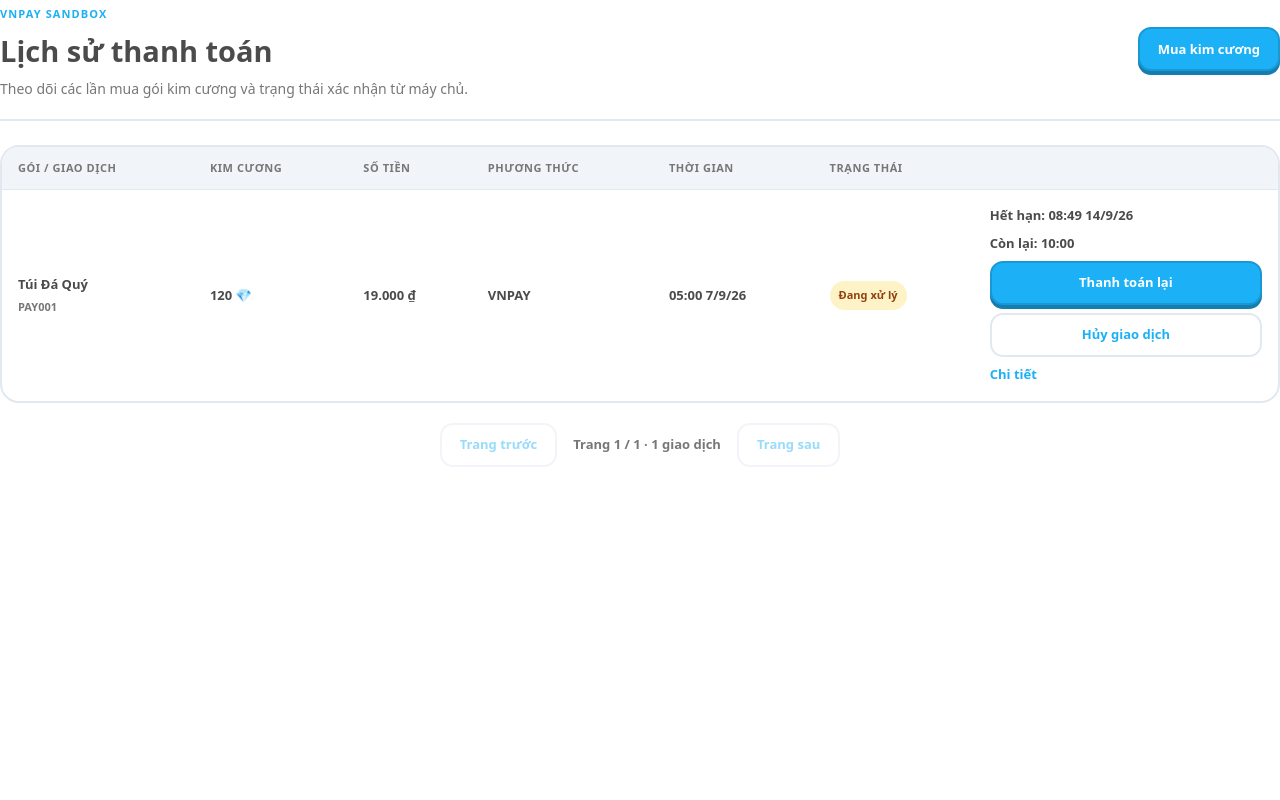
Test: PaymentHistoryPage › cancel confirmation clears only matching storage (true)
Click the button with aria-label "Hủy giao dịch PAY001".
click(1126, 335)  # box top-left (990, 313), bottom-right (1262, 357)
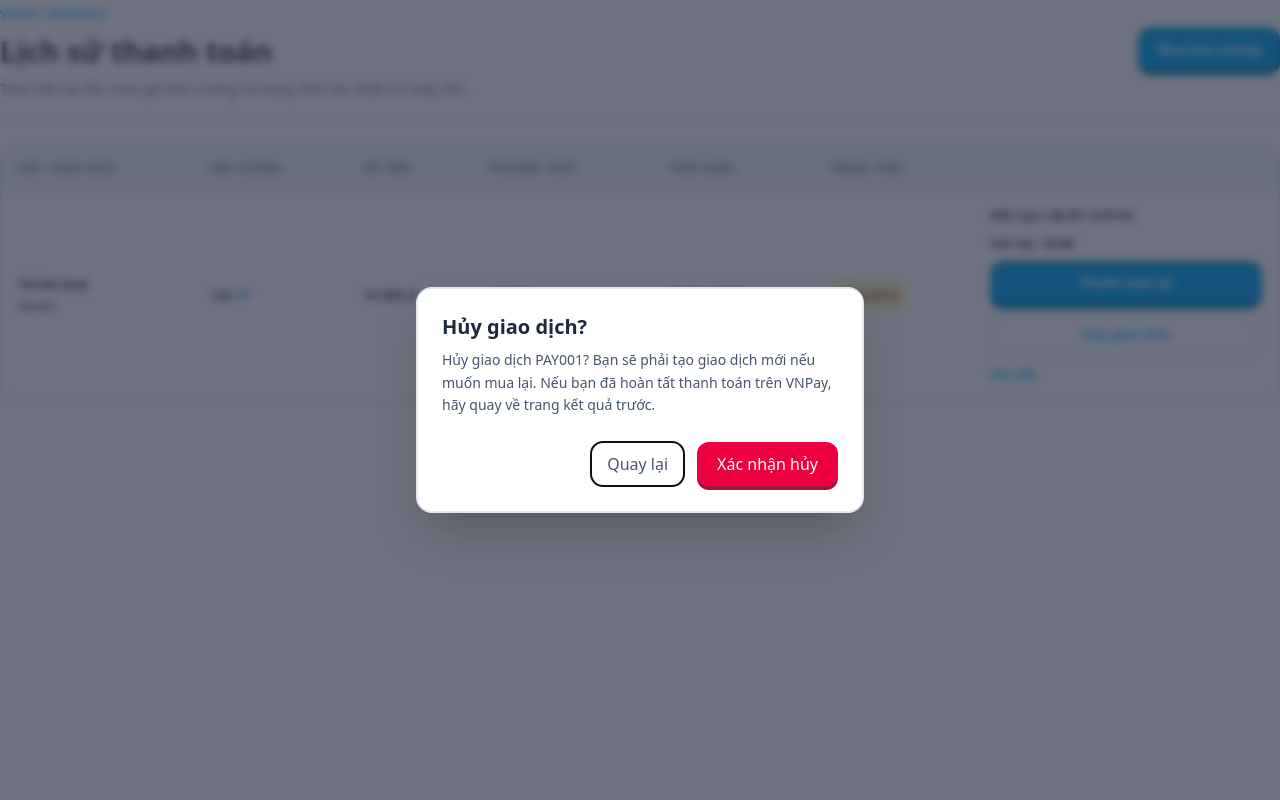
Expected: the dialog "Hủy giao dịch?" is shown
Click the button "Xác nhận hủy".
click(768, 464)  # box top-left (697, 442), bottom-right (838, 486)
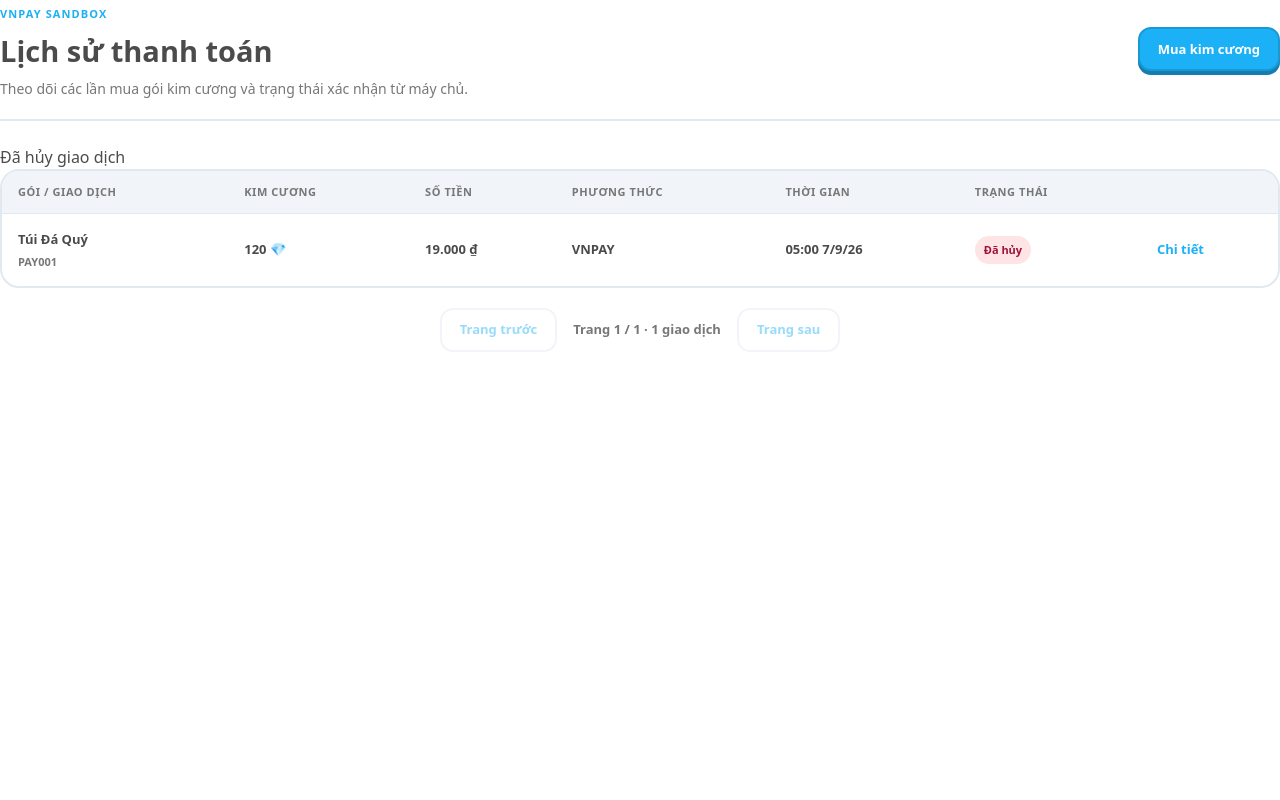
Expected: the text "Đã hủy giao dịch" is shown, top-left (0, 146), bottom-right (125, 168)
